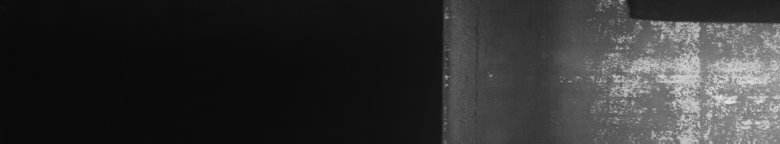kb: (561, 4, 776, 136)
